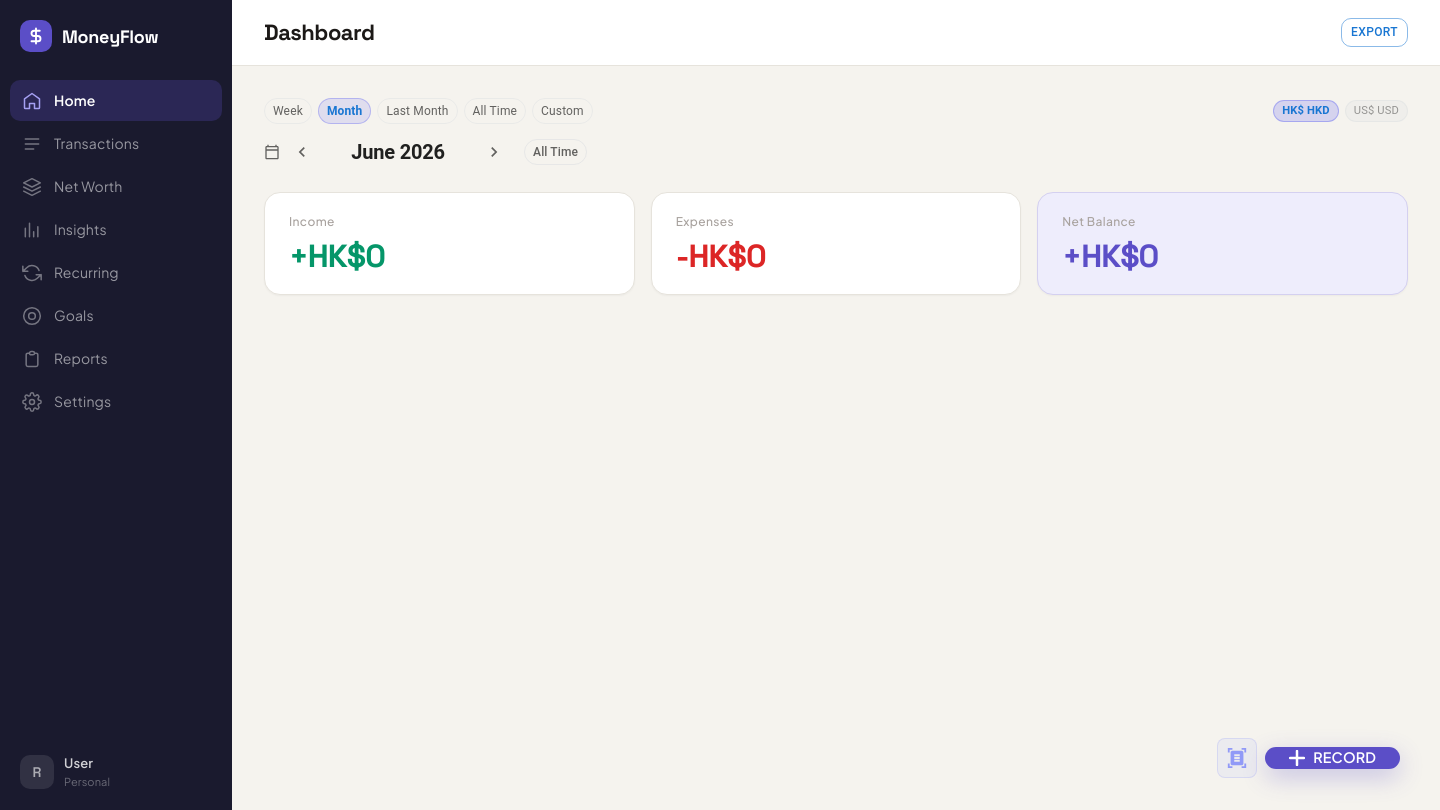
Test case: Empty state on Transactions tab › shows empty state when transactions exist but none match current month filter
Click the button "Transactions" at x=81, y=144, box [22,134,139,154]
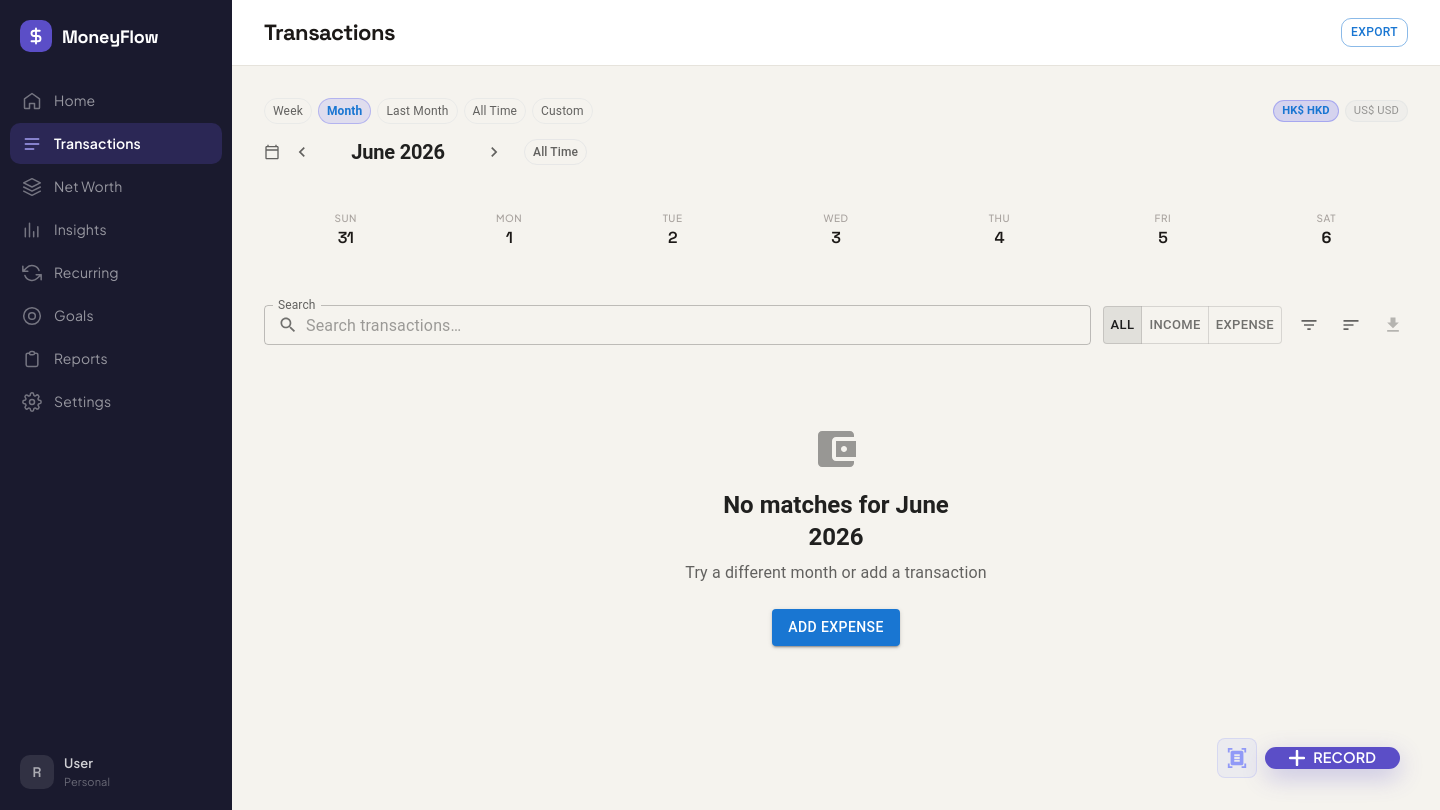
Check: the heading "No matches for June 2026" is shown, box [723,491,949,551]
